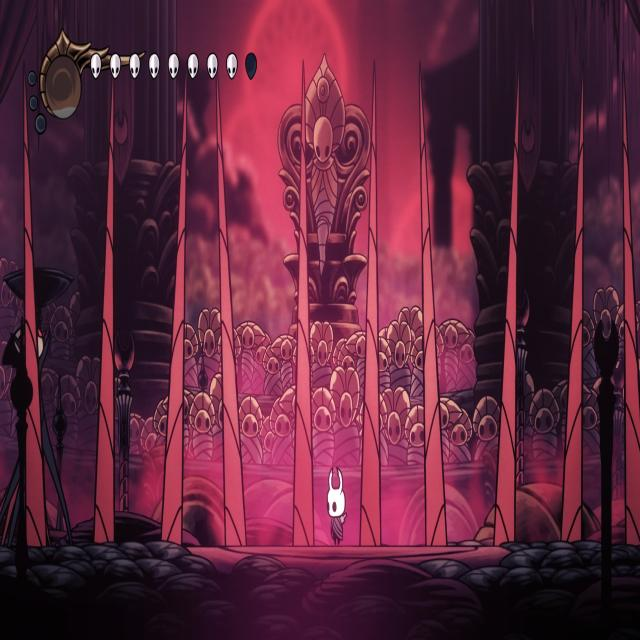Grimm: (0, 274, 70, 548), (0, 266, 28, 547)
Player: (324, 462, 350, 546)
Spikes: (14, 106, 49, 551), (492, 106, 521, 576), (215, 92, 244, 555), (418, 122, 449, 553), (160, 108, 187, 547), (359, 107, 384, 561), (560, 121, 586, 548), (291, 107, 314, 554), (97, 122, 119, 542), (621, 156, 640, 544)
